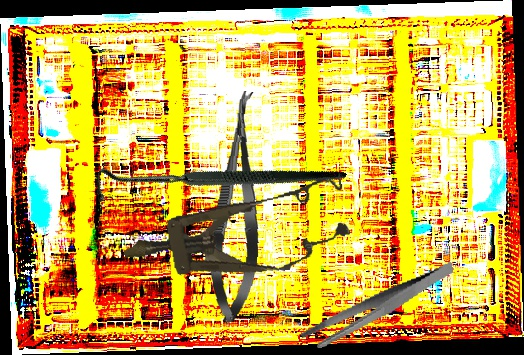Dressing Forceps: (292, 261, 464, 352)
Hook Surgical: (86, 73, 348, 296)
Micro Scissor: (206, 89, 269, 324)
Speculum: (116, 170, 355, 298)
